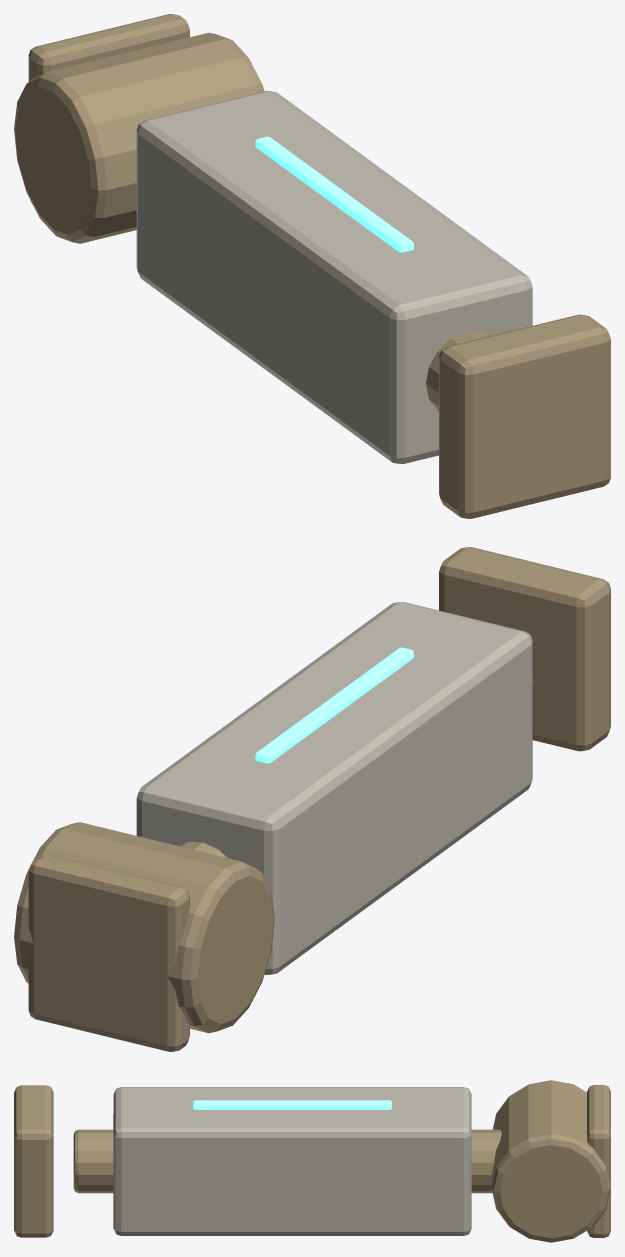
3 renders of one model, top to bottom at view 1: azimuth 30°, elevation 25°; view 2: azimuth 150°, elevation 25°; view 3: azimuth 270°, elevation 25°, orthographic. The views are drawn at different scales.
Parts seen in each view (by area): view 1: Link_L_Boom.003, PART_Link_L.003; view 2: Link_L_Boom.003, PART_Link_L.003; view 3: Link_L_Boom.003, PART_Link_L.003.
Part boxes in pixels (x1,y1,x2,y2): Link_L_Boom.003: (136,91,610,518); PART_Link_L.003: (14,14,264,243); Link_L_Boom.003: (136,547,610,974); PART_Link_L.003: (14,822,274,1051); Link_L_Boom.003: (14,1085,501,1237); PART_Link_L.003: (491,1080,610,1242).
Bounding box in the file's own units: 0.36 × 0.315 × 1.5.
